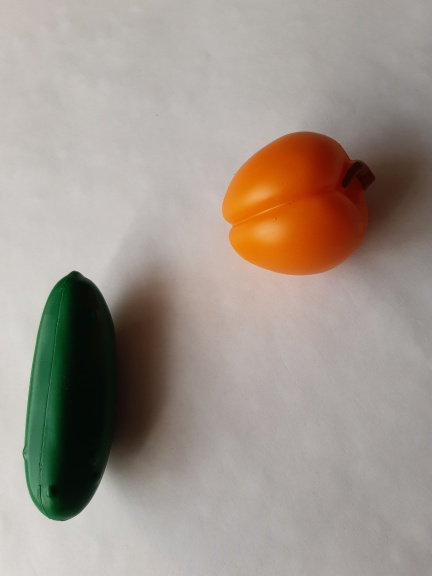apricot: (210, 123, 396, 294)
cucumber: (9, 258, 133, 532)
